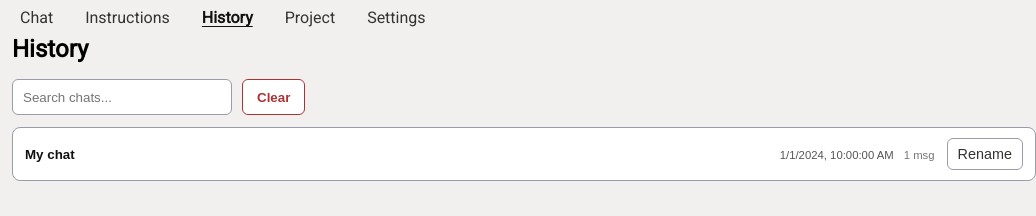
Test: HistoryPage accessibility › rename input is labelled and keyboard accessible
Click the button with aria-label "rename my chat": (985, 154) [947,138,1023,170]
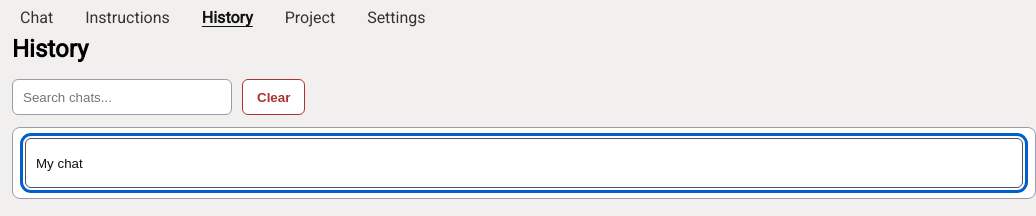
Check: the field named "rename chat" is shown, box [25,138,1023,188]
